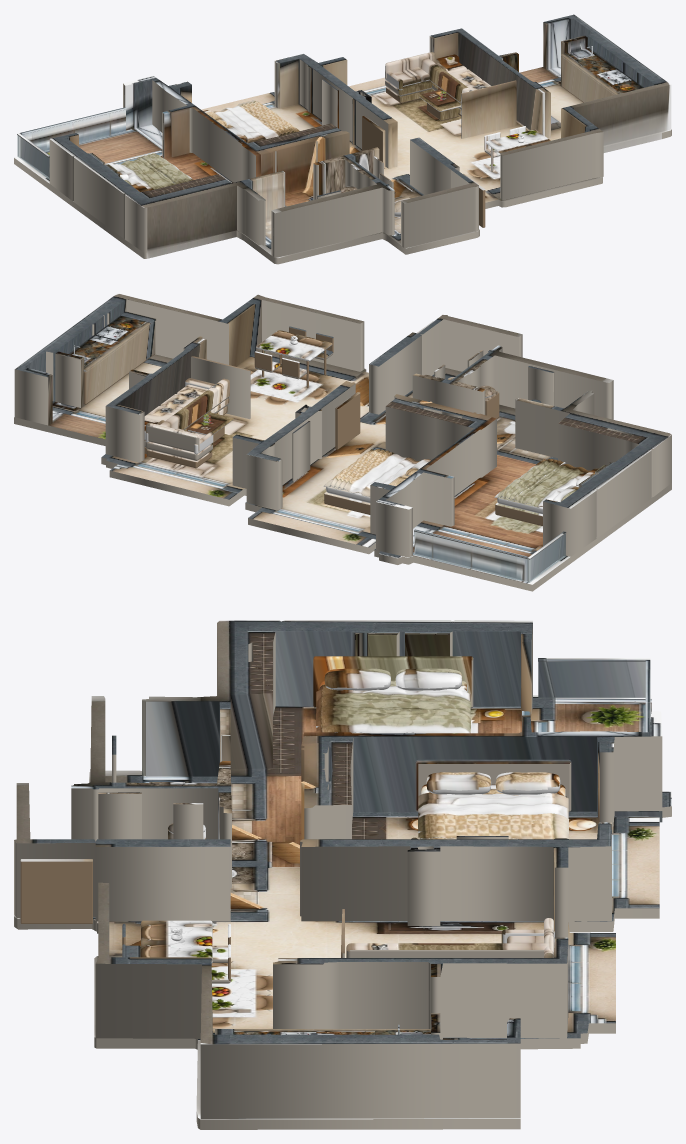
File: p2-06-u07-0112-image-model.glb
3 views of the same model, one above another, from view 1: azimuth 30°, elevation 25°; view 2: azimuth 150°, elevation 25°; view 3: azimuth 270°, elevation 25° (orthographic). The views are drawn at different scales.
Visible parts, largest first — view 1: Partition walls, Apartment floor, Balcony glazing, Draped bed linen, Kitchen cabinets, Stone worktop, Draped bed linen.002, Sofa back, Marble dining top, Open oak door.001, Balcony glazing.001, Draped bed linen.001 (+4 smaller); view 2: Partition walls, Apartment floor, Balcony glazing, Kitchen cabinets, Draped bed linen.002, Draped bed linen, Stone worktop, Sofa back, Marble dining top, Open oak door.001, Sofa back.001, Balcony glazing.001 (+7 smaller); view 3: Partition walls, Apartment floor, Draped bed linen.002, Open oak door, Draped bed linen, Balcony glazing.001, Sofa back, Upholstered headboard, Upholstered headboard.001, Marble dining top, Draped bed linen.001, Draped bed linen.003 (+5 smaller).
Part boxes in pixels (x1,y1,x2,y2): Partition walls: (49,14,671,257); Apartment floor: (14,66,671,264); Balcony glazing: (18,109,125,156); Draped bed linen: (213,101,299,143); Kitchen cabinets: (562,56,614,102); Stone worktop: (561,48,643,94); Draped bed linen.002: (114,154,193,190); Sofa back: (418,55,472,103); Marble dining top: (485,129,550,153); Open oak door.001: (362,115,385,168); Balcony glazing.001: (17,135,49,179); Draped bed linen.001: (238,100,296,135); Partition walls: (14,293,671,557); Apartment floor: (14,349,671,591); Balcony glazing: (414,531,530,582); Kitchen cabinets: (83,321,155,404); Draped bed linen.002: (494,459,590,507); Draped bed linen: (323,449,419,496); Stone worktop: (68,311,156,371); Sofa back: (160,378,229,429); Marble dining top: (256,330,332,361); Open oak door.001: (335,392,360,449); Sofa back.001: (146,422,199,452); Balcony glazing.001: (527,533,565,582); Partition walls: (14,620,662,1118); Apartment floor: (14,695,671,1129); Draped bed linen.002: (316,689,470,733); Open oak door: (20,859,92,923); Draped bed linen: (418,793,568,839); Balcony glazing.001: (538,662,645,697); Sofa back: (346,943,547,957); Upholstered headboard: (415,759,571,811); Upholstered headboard.001: (313,656,473,708); Marble dining top: (141,920,212,963); Draped bed linen.001: (418,813,568,834); Draped bed linen.003: (316,708,470,728).
Size of the model in its own units: 13.94 by 1.3 by 9.12.
Materials: 14 (3 with a texture image).
